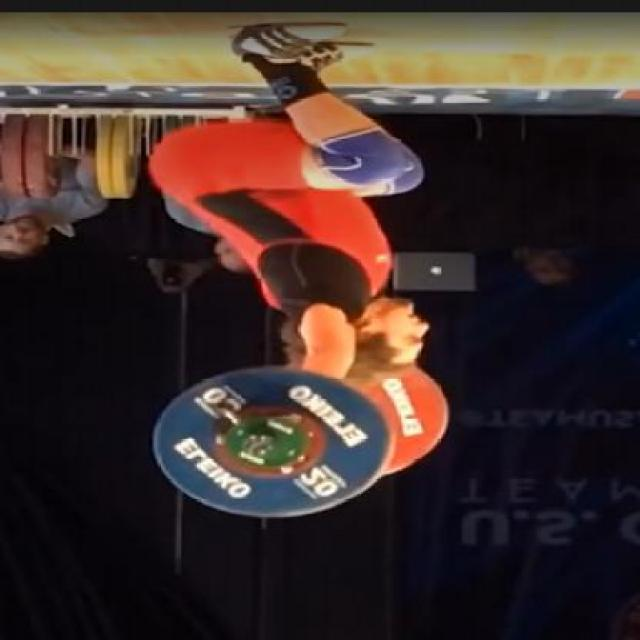Barbell: (236, 433, 279, 456)
